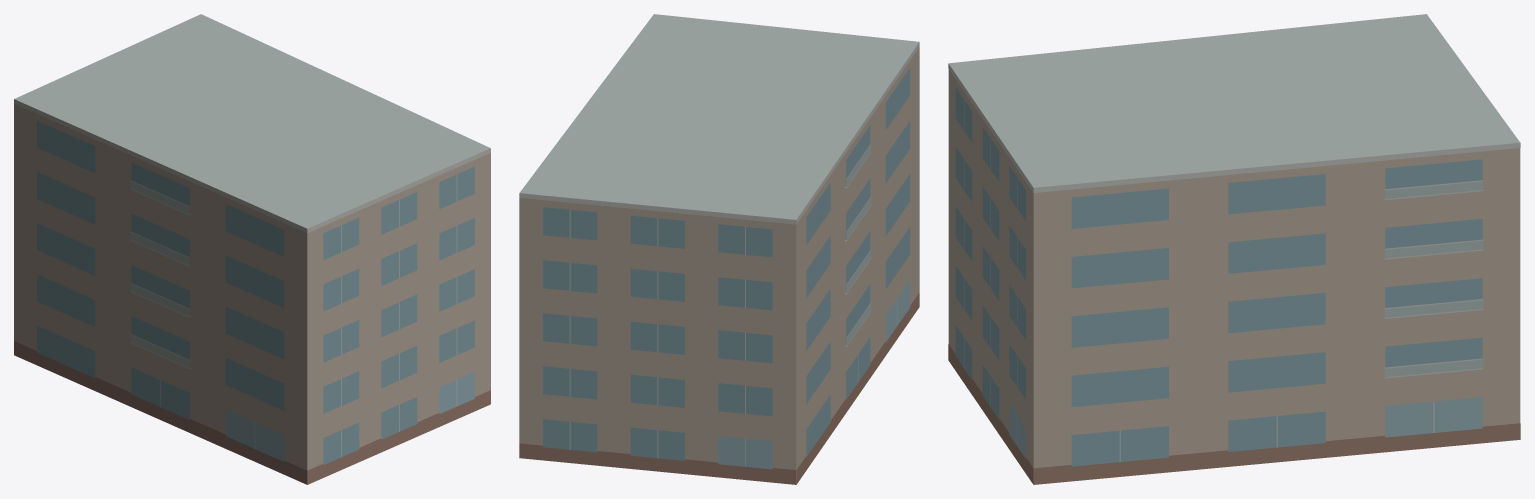
Rendered from survey-upis-33029214.glb.
3 renders of one model, left to right at view 1: azimuth 30°, elevation 25°; view 2: azimuth 150°, elevation 25°; view 3: azimuth 270°, elevation 25°, orthographic. The views are drawn at different scales.
Visible parts, largest first — view 1: survey-upis-33029214.tmp; view 2: survey-upis-33029214.tmp; view 3: survey-upis-33029214.tmp.
Part boxes in pixels (box(x1,y1,x2,y2)): survey-upis-33029214.tmp: box(14, 14, 490, 484); survey-upis-33029214.tmp: box(519, 14, 919, 484); survey-upis-33029214.tmp: box(948, 14, 1520, 484).
Size of the model in its own units: 17.33 by 13.8 by 24.09.
